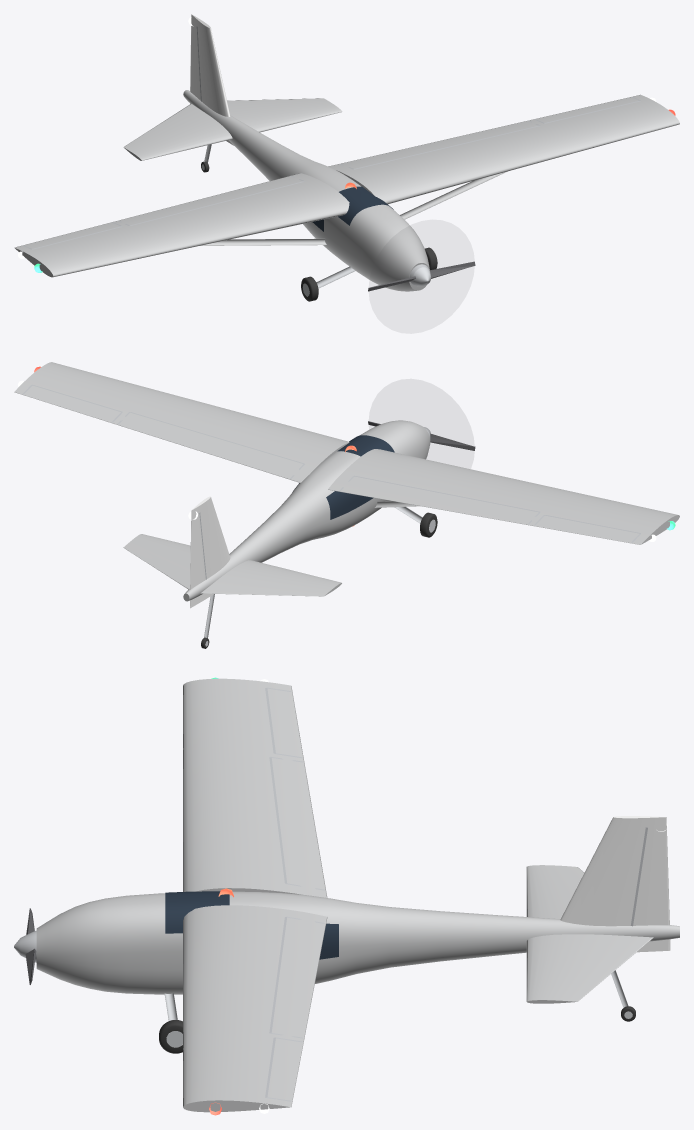
3 views of the same model, one above another, from view 1: azimuth 30°, elevation 25°; view 2: azimuth 150°, elevation 25°; view 3: azimuth 270°, elevation 25° (orthographic). The views are drawn at different scales.
Visible parts, largest first — view 1: airframe, prop; view 2: airframe; view 3: airframe.
Part boxes in pixels (x1,y1,x2,y2): airframe: [14, 14, 679, 301]; prop: [368, 261, 475, 291]; airframe: [14, 362, 679, 648]; airframe: [14, 677, 679, 1115].
Size of the model in its own units: 10.92 by 2.44 by 7.14.
